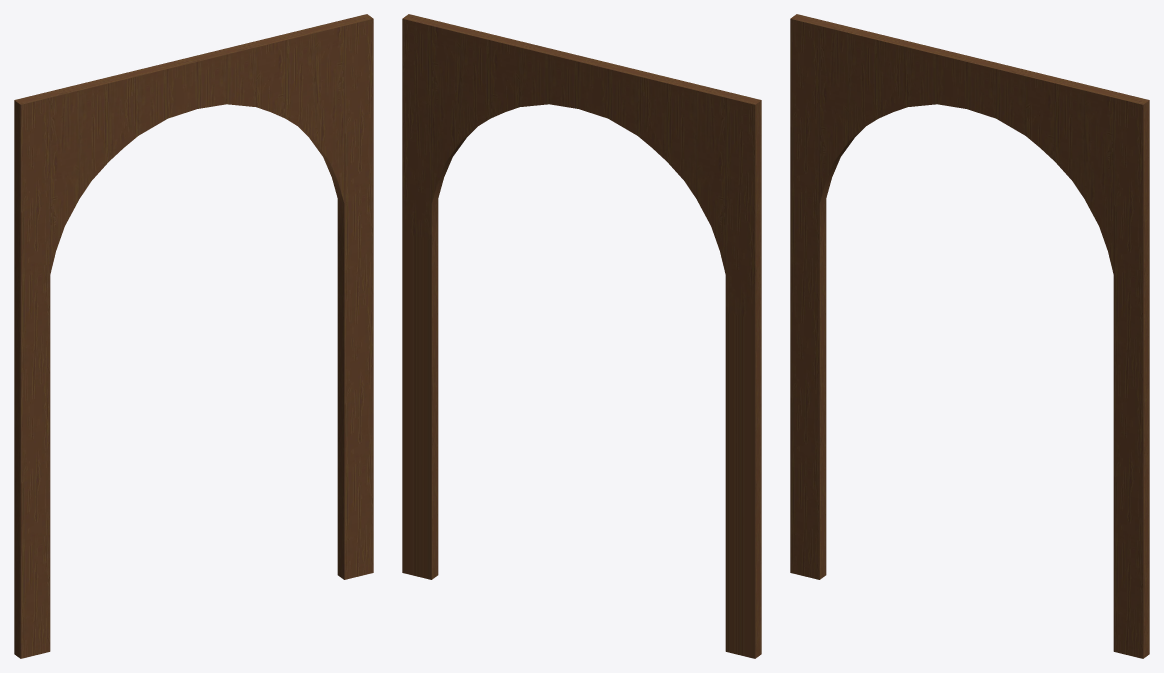
The model's file is Wall_Arch.gltf.
The picture shows the model from 3 angles, left to right: view 1: azimuth 30°, elevation 25°; view 2: azimuth 150°, elevation 25°; view 3: azimuth 330°, elevation 25°; orthographic projection.
Visible parts, largest first — view 1: Wall_Arch; view 2: Wall_Arch; view 3: Wall_Arch.
Boxes of the visible parts, <box> form: Wall_Arch: <box>14,14,373,658</box>; Wall_Arch: <box>402,14,761,658</box>; Wall_Arch: <box>790,14,1149,658</box>.
Size of the model in its own units: 2 by 3 by 0.064.
Materials: 1 (1 with a texture image).
